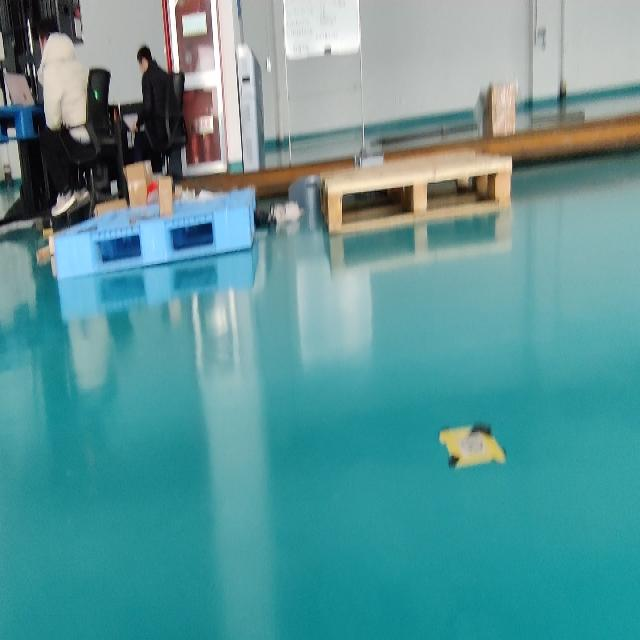euro: (321, 151, 511, 233)
